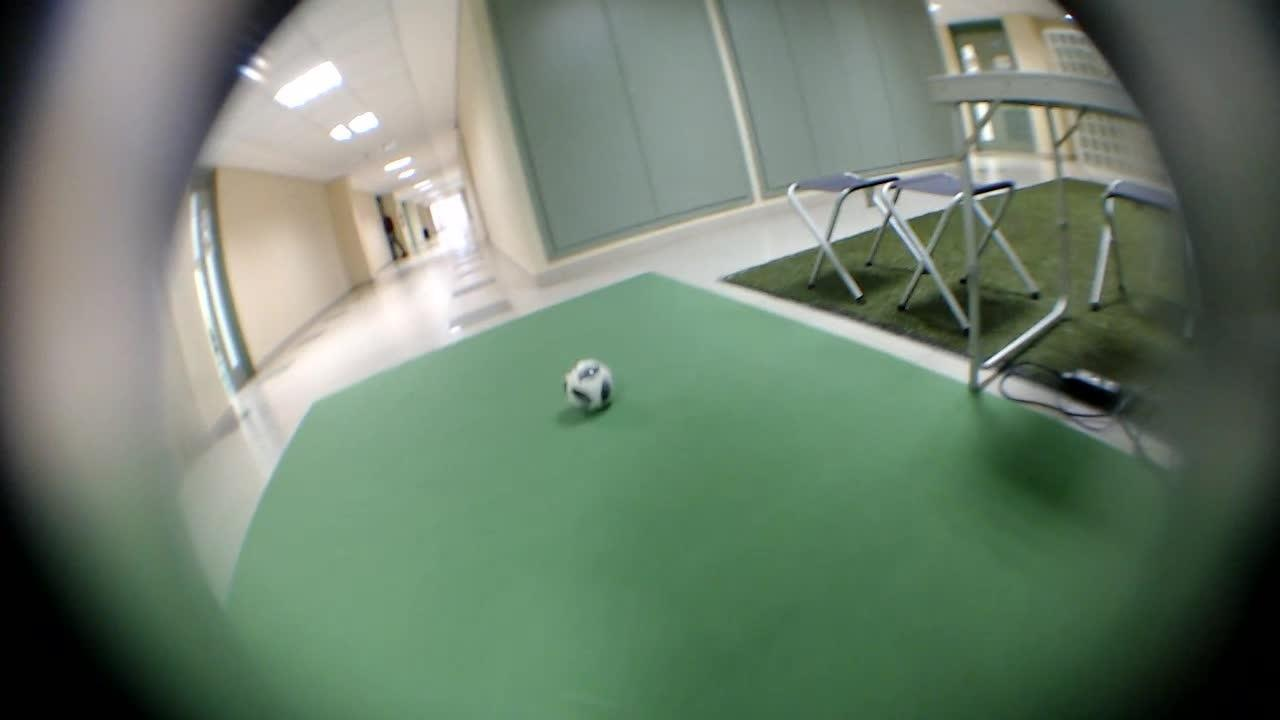ball: (556, 344, 619, 415)
